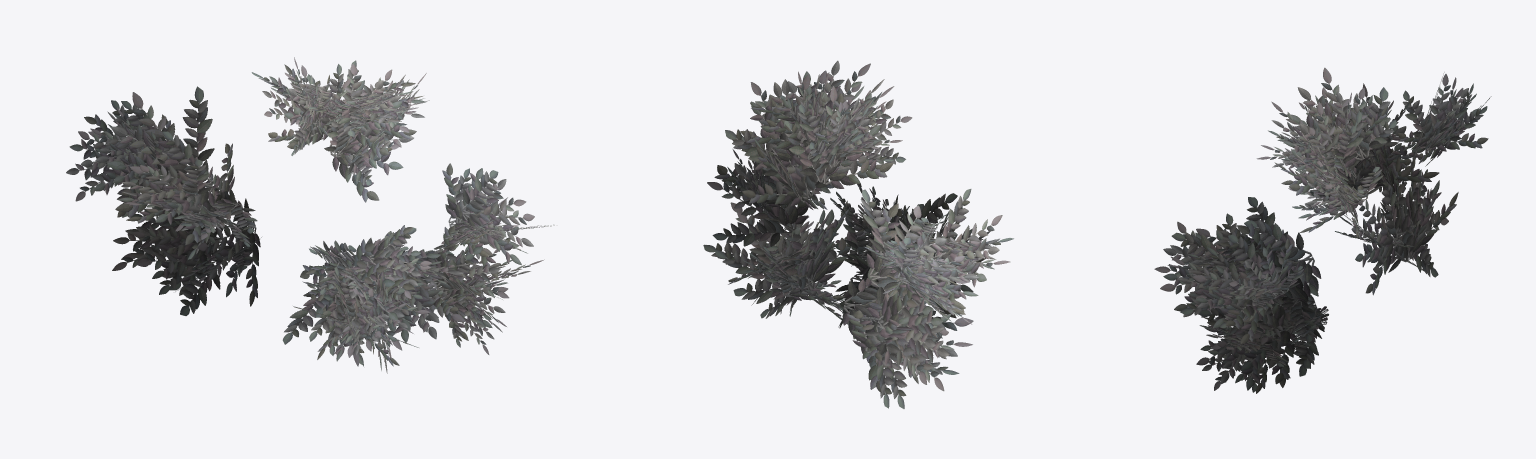
The model's file is oak_wide_l1.gltf.
3 renders of one model, left to right at view 1: azimuth 30°, elevation 25°; view 2: azimuth 150°, elevation 25°; view 3: azimuth 270°, elevation 25°, orthographic. The views are drawn at different scales.
Parts seen in each view (by area): view 1: oak_wide_l1; view 2: oak_wide_l1; view 3: oak_wide_l1.
Part boxes in pixels (x1,y1,x2,y2): oak_wide_l1: (66, 57, 554, 373); oak_wide_l1: (703, 60, 1013, 408); oak_wide_l1: (1154, 67, 1491, 393).
Bounding box in the file's own units: 13.1 × 10.28 × 11.45.
Materials: 1 (1 with a texture image).
